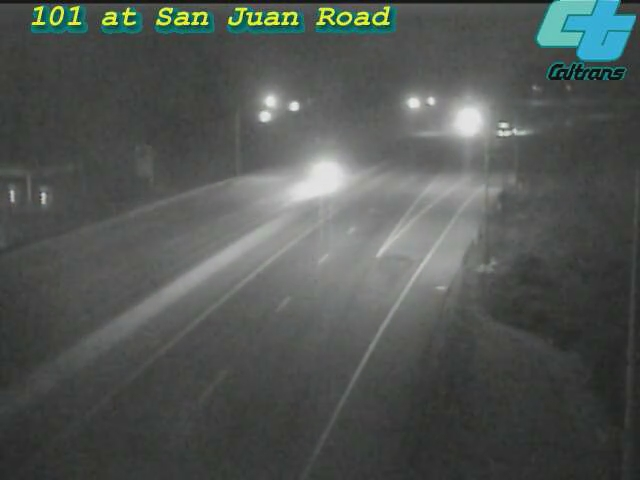vehicle: (283, 135, 363, 215), (443, 96, 493, 146), (481, 105, 531, 155)
